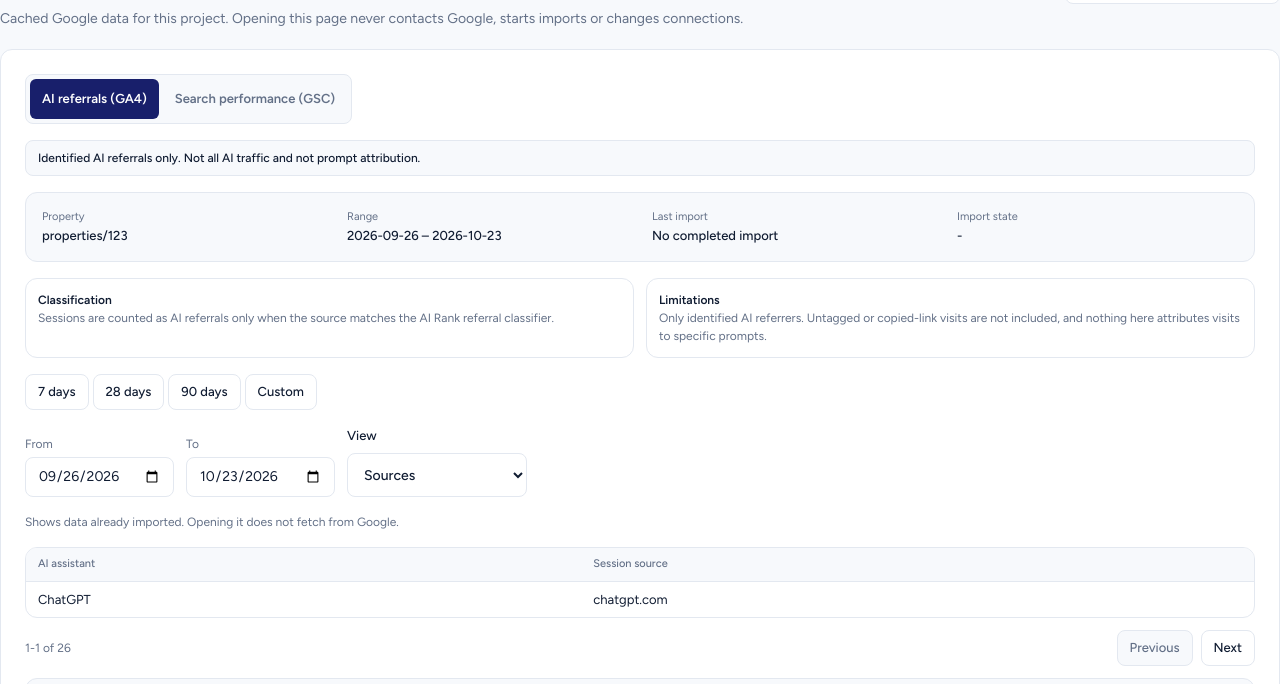
it: Traffic cached reports › allows Previous on an empty later page without claiming no matching rows
The image size is (1280, 684).
Click the button "Next" at point(1228, 648), box x1=1200 y1=630 x2=1255 y2=666
(page scrolled)
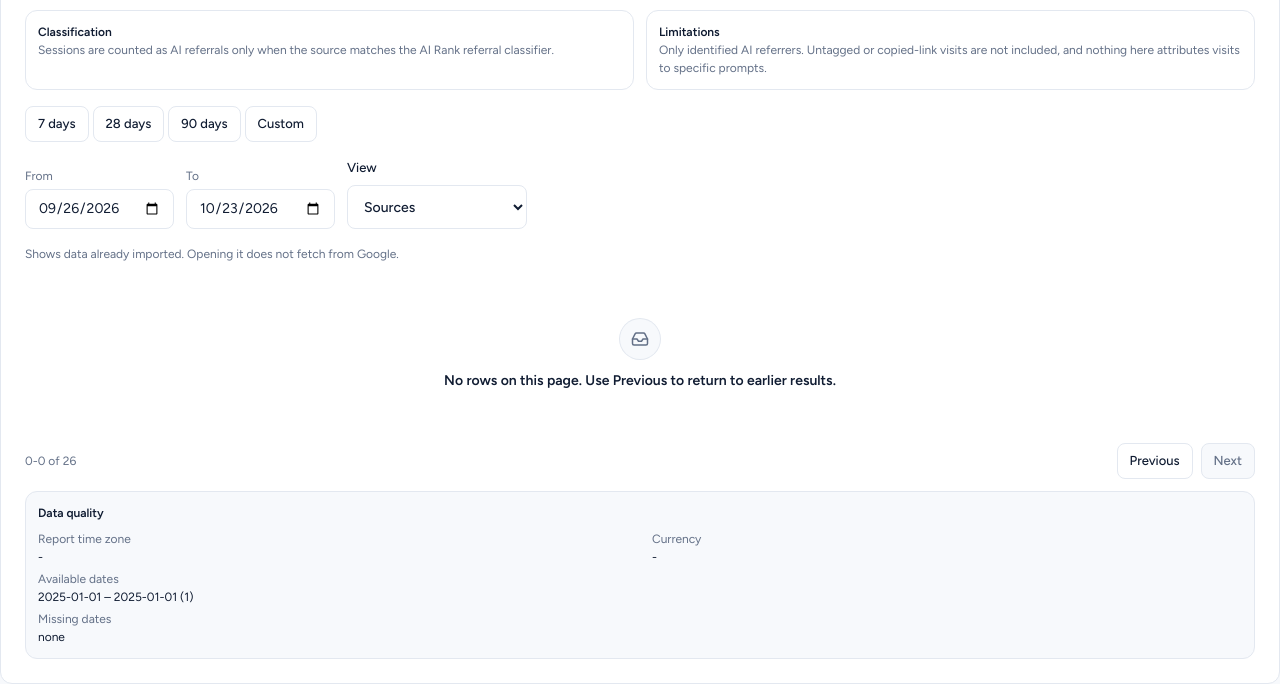
Expected: the text "No rows on this page. Use Previous to return to earlier results." is shown, x1=444 y1=371 x2=836 y2=391
Expected: the button "Previous" is enabled
Click the button "Previous" at point(1155, 461), box x1=1117 y1=443 x2=1192 y2=479
(page scrolled)
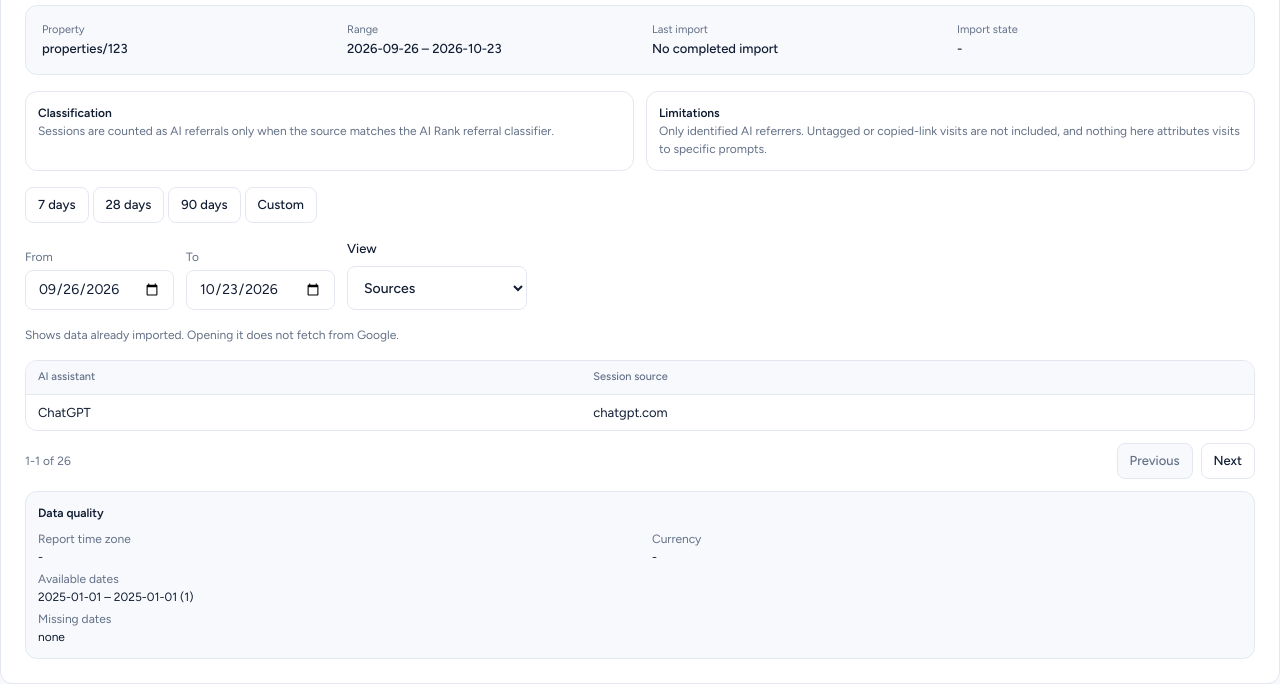
Expected: the text "ChatGPT" is shown, x1=26 y1=394 x2=581 y2=430
